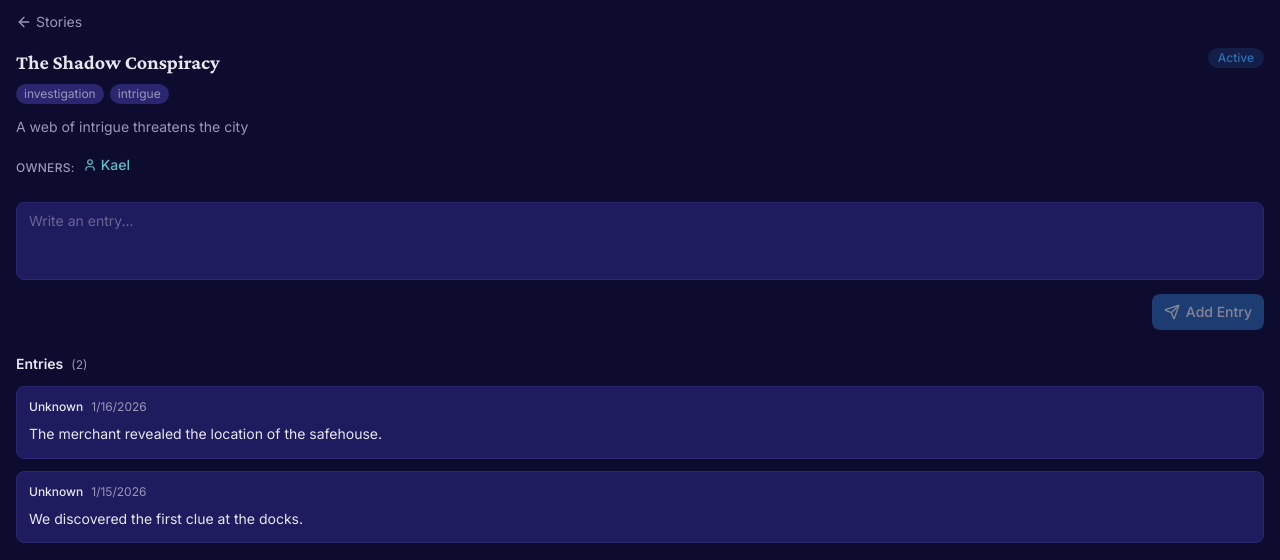
Test case: StoryDetailPage › enables Add Entry button when text is entered
In the text box with placeholder "Write an entry...": (640, 241) [16,202,1264,280], type "A new entry about the investigation"
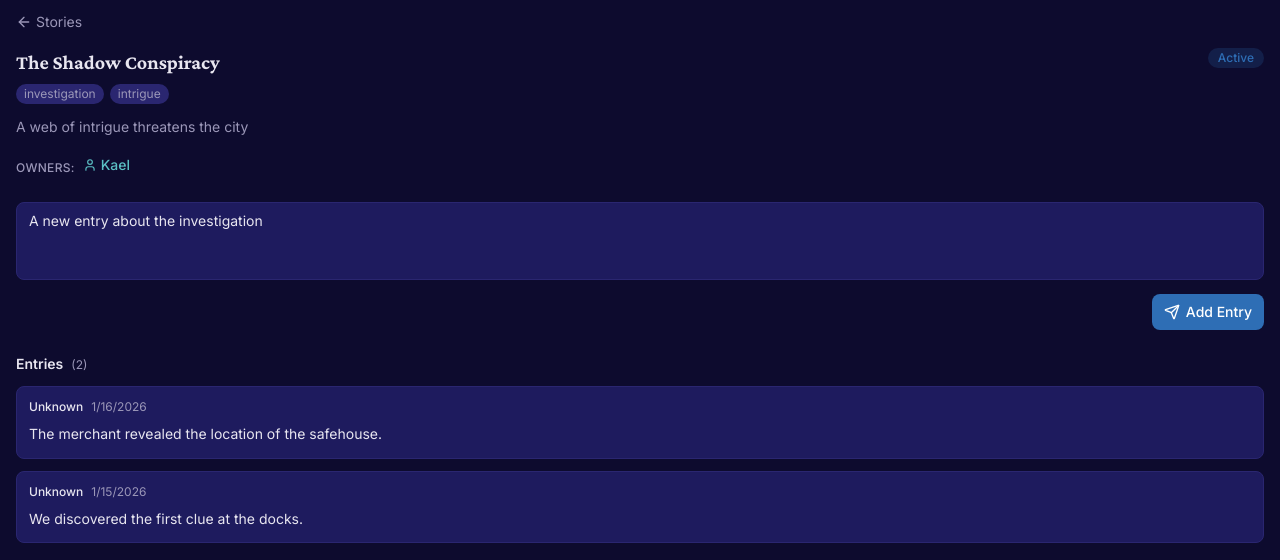
Check: the button "Add Entry" is enabled, box [1152,294,1264,330]
